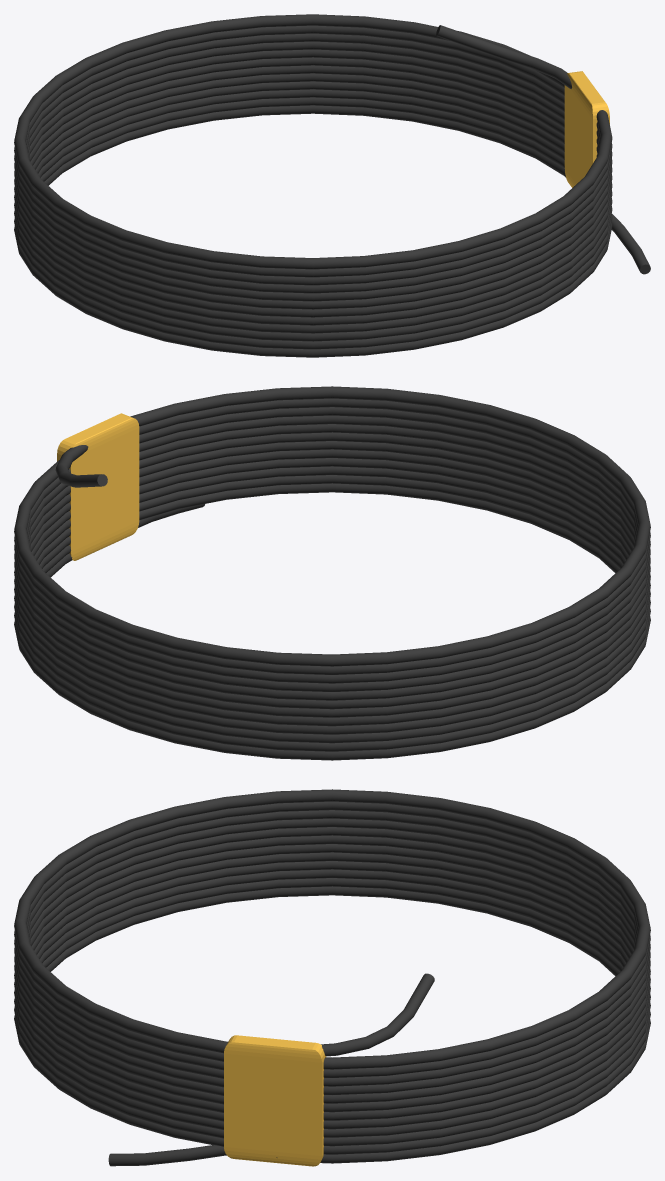
Rendered from wire.fbx.
The picture shows the model from 3 angles, top to bottom: view 1: azimuth 30°, elevation 25°; view 2: azimuth 150°, elevation 25°; view 3: azimuth 270°, elevation 25°; orthographic projection. The views are drawn at different scales.
Visible parts, largest first — view 1: Wire, Holder; view 2: Wire, Holder; view 3: Wire, Holder.
Boxes of the visible parts, left/top/right/bottom form: Wire: left=14, top=14, right=650, bottom=357; Holder: left=564, top=71, right=609, bottom=187; Wire: left=14, top=386, right=650, bottom=760; Holder: left=57, top=413, right=139, bottom=560; Wire: left=14, top=789, right=650, bottom=1166; Holder: left=224, top=1035, right=326, bottom=1166.
Size of the model in its own units: 206 by 57.69 by 204.
